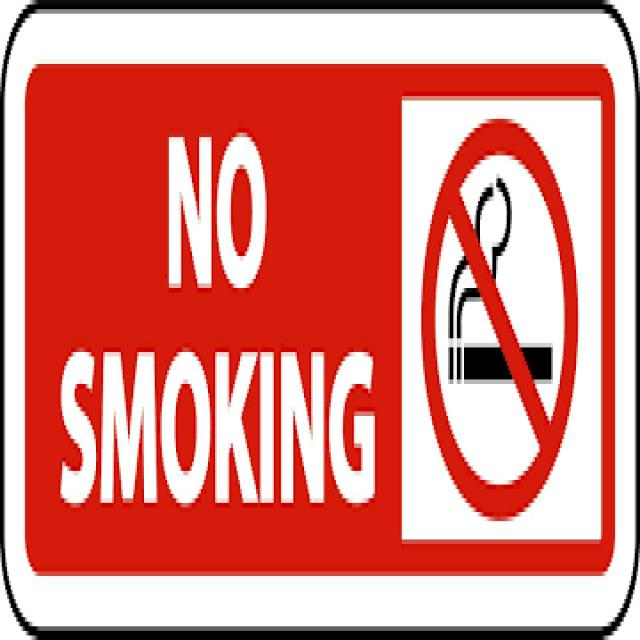no-smoking: (408, 96, 610, 544)
